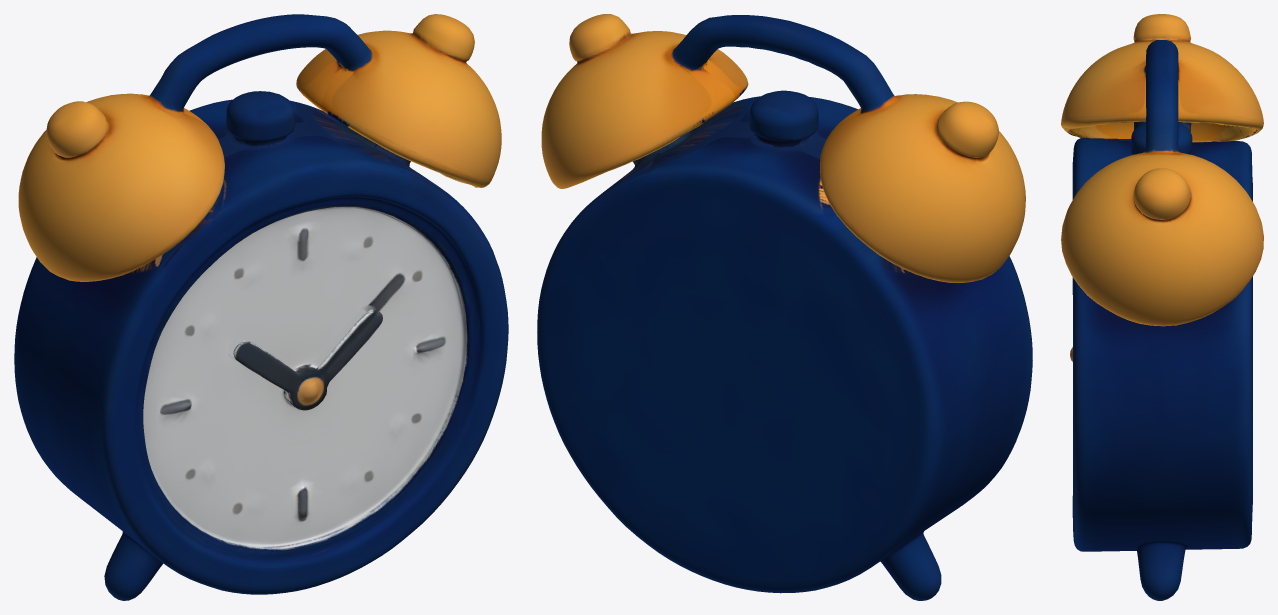
File: base_basic_pbr.glb
3 renders of one model, left to right at view 1: azimuth 30°, elevation 25°; view 2: azimuth 150°, elevation 25°; view 3: azimuth 270°, elevation 25°, orthographic. The views are drawn at different scales.
Parts seen in each view (by area): view 1: model; view 2: model; view 3: model.
Boxes of the visible parts, x1,y1,x2,y2 form: model: [14, 14, 508, 600]; model: [537, 14, 1032, 600]; model: [1061, 14, 1263, 600].
Bounding box in the file's own units: 1.66 × 1.9 × 0.725.
Materials: 1 (1 with a texture image).
